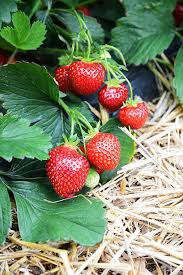ripe: (43, 142, 92, 204), (69, 47, 112, 98), (84, 127, 119, 170), (117, 97, 151, 132), (98, 77, 131, 112), (51, 58, 78, 94)
unripe: (82, 165, 101, 190)
